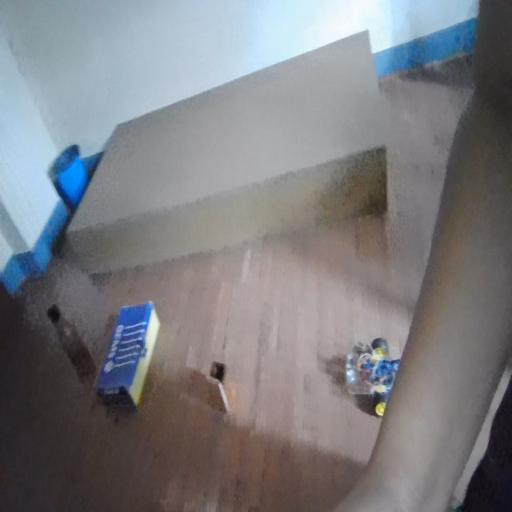Bottle: (53, 311, 90, 378)
car: (342, 332, 390, 393)
